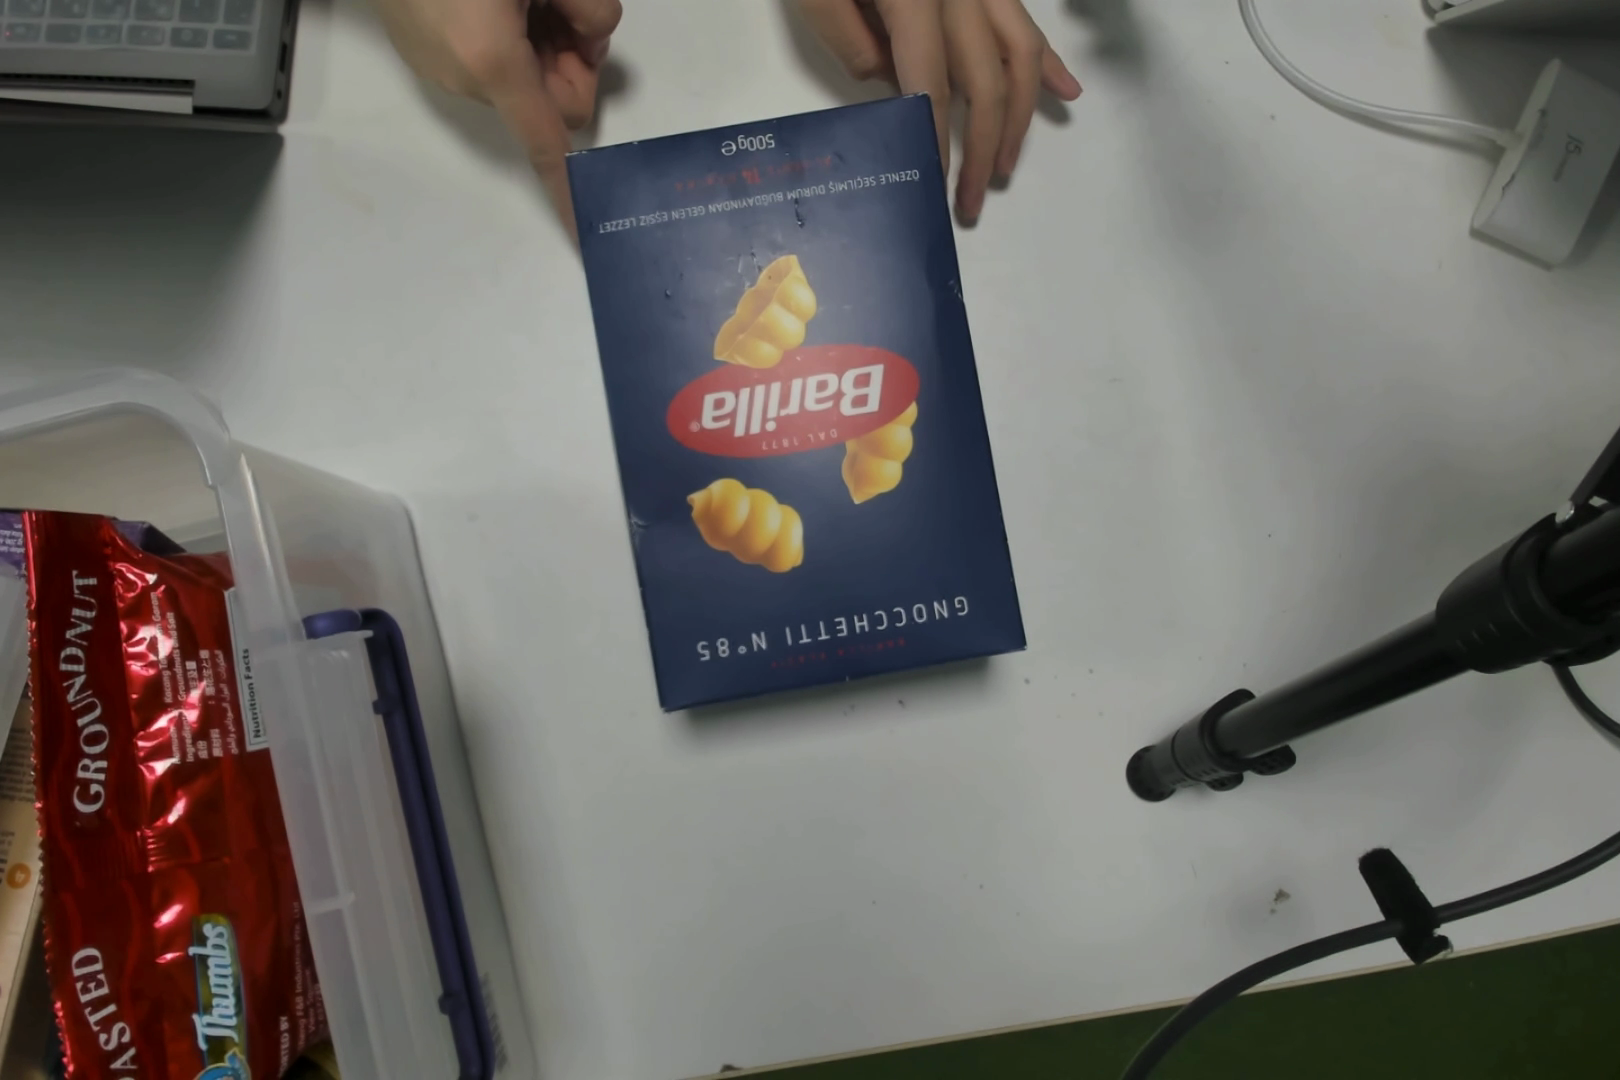Pasta_500-599g_NonHalal_NonHealthy: (618, 143, 1011, 689)
